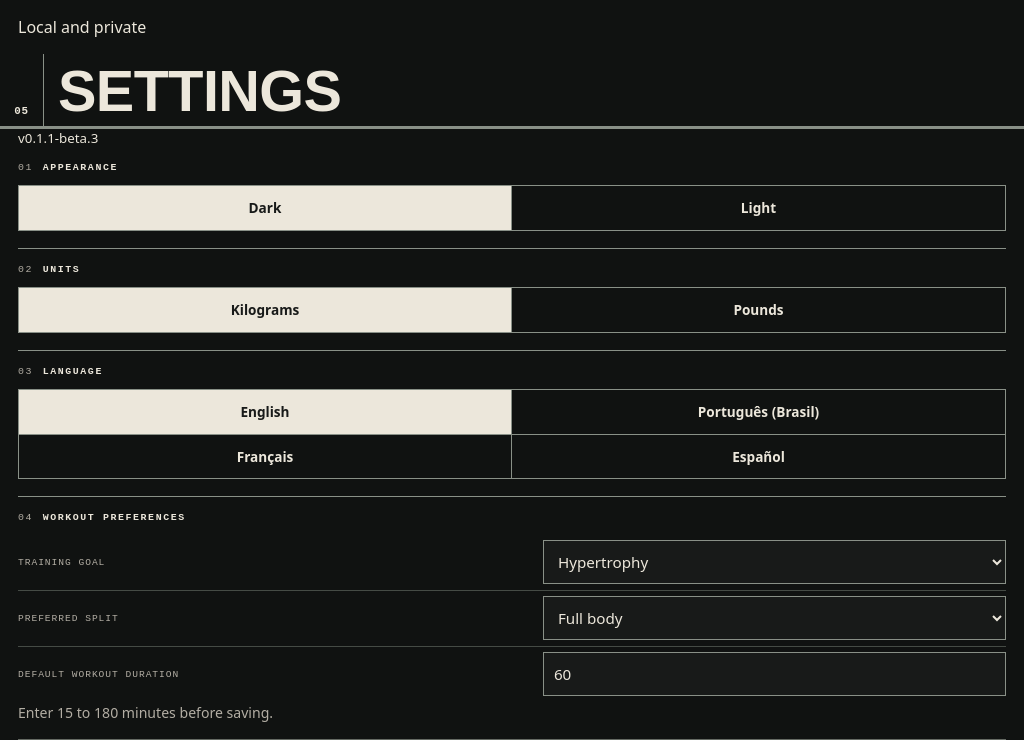
Test: SettingsPage language control › switches visible and accessibility copy immediately, persists the choice, and updates document.lang
Check: the heading "05 Settings" is shown, box [0, 54, 1023, 129]
Click the button "Français". click: x=266, y=456
box: [19, 434, 512, 478]
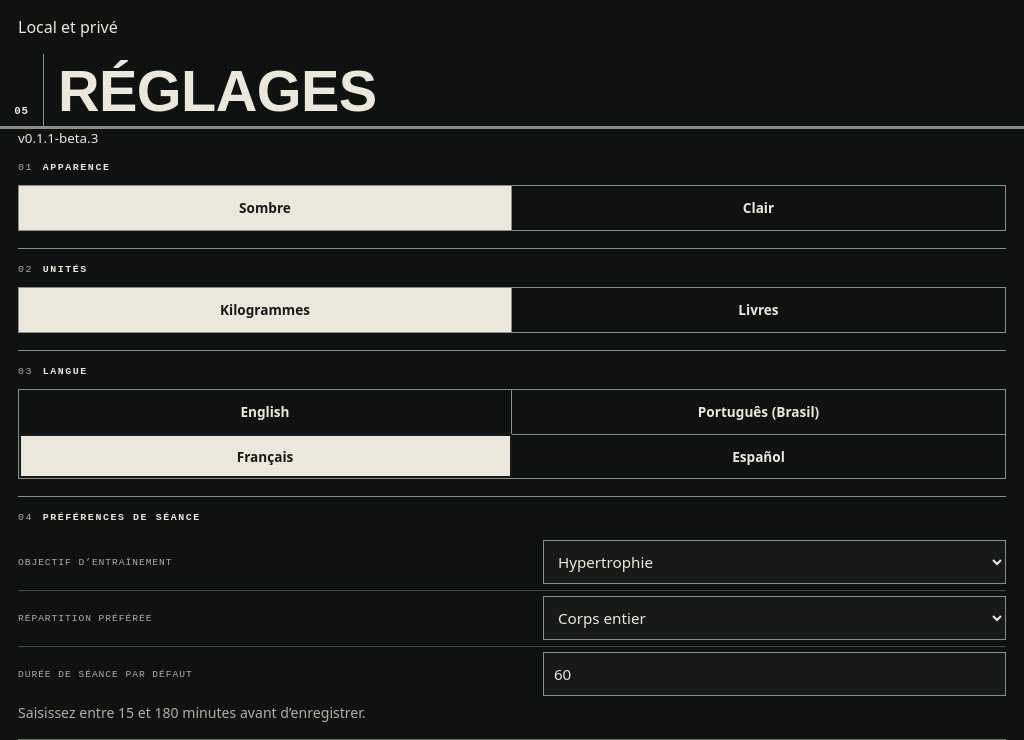
Check: the heading "05 Réglages" is shown, box [0, 54, 1023, 129]
Check: the button "Kilogrammes" is shown, box [19, 288, 512, 332]
